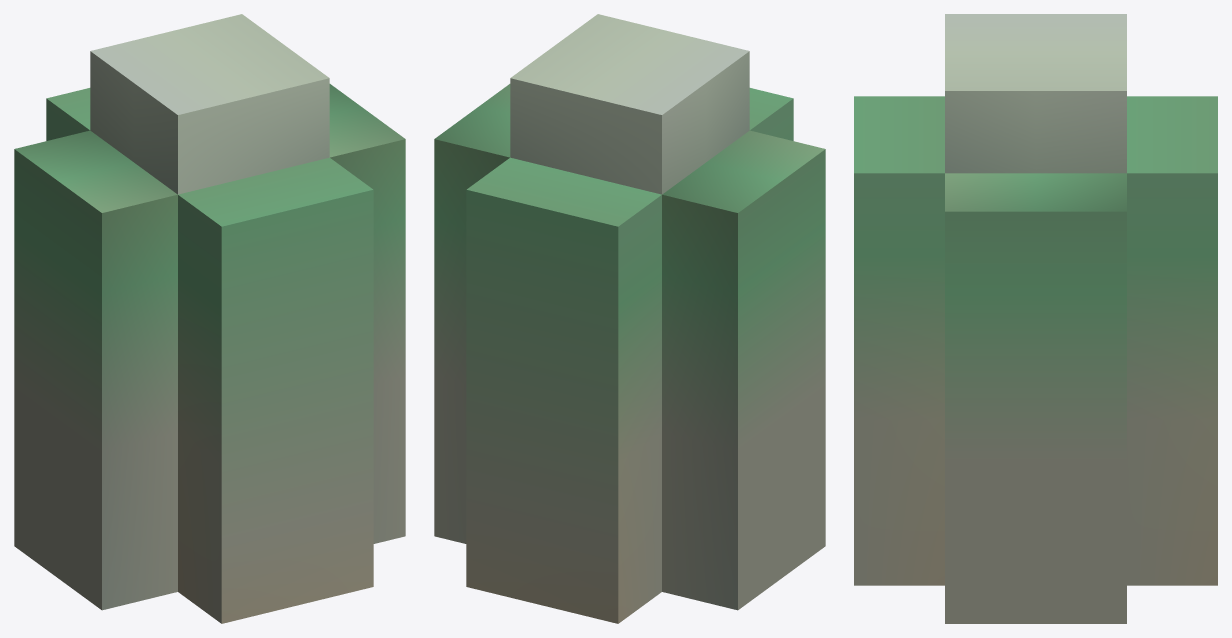
Rendered from ContainerGreen_01.fbx.
The picture shows the model from 3 angles, left to right: view 1: azimuth 30°, elevation 25°; view 2: azimuth 150°, elevation 25°; view 3: azimuth 270°, elevation 25°; orthographic projection. The views are drawn at different scales.
Parts seen in each view (by area): view 1: ContainerGreen_01; view 2: ContainerGreen_01; view 3: ContainerGreen_01.
Boxes of the visible parts, <box> form: ContainerGreen_01: <box>14,14,405,623</box>; ContainerGreen_01: <box>434,14,825,623</box>; ContainerGreen_01: <box>854,14,1217,623</box>.
Size of the model in its own units: 20 by 20 by 30.
Materials: 1 (1 with a texture image).
